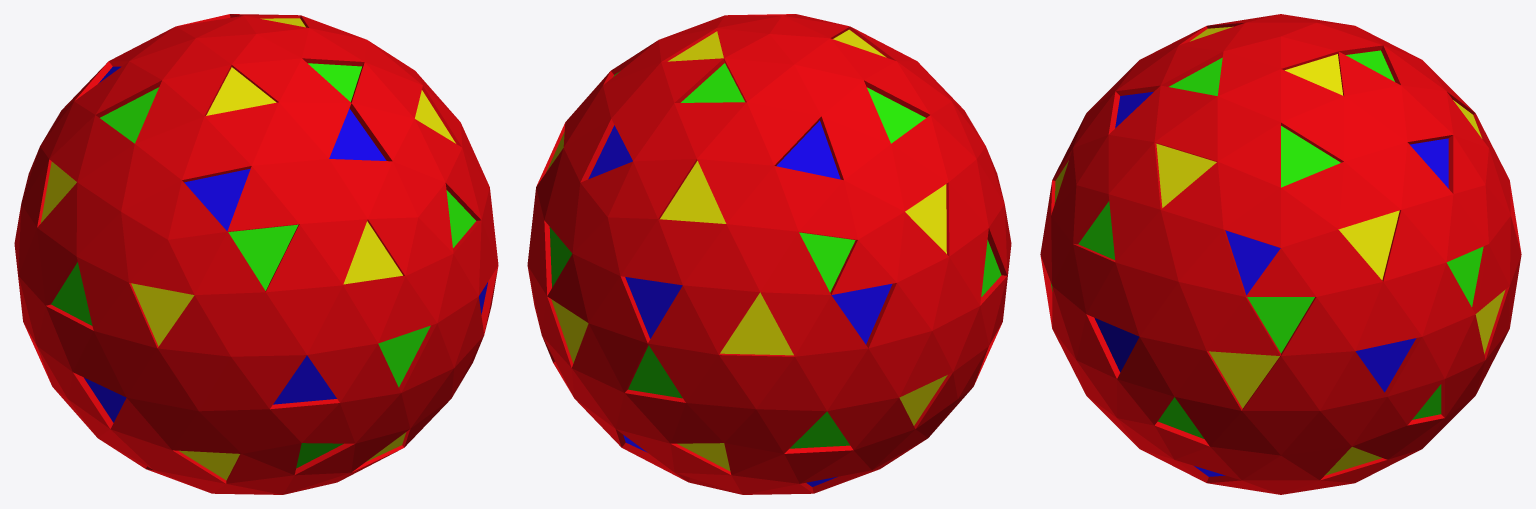
Rendered from Ball_Red.fbx.
3 renders of one model, left to right at view 1: azimuth 30°, elevation 25°; view 2: azimuth 150°, elevation 25°; view 3: azimuth 270°, elevation 25°, orthographic.
Visible parts, largest first — view 1: Ball; view 2: Ball; view 3: Ball.
Part boxes in pixels (x1,y1,x2,y2): Ball: (14, 14, 498, 494); Ball: (527, 14, 1011, 494); Ball: (1040, 14, 1521, 494).
Bounding box in the file's own units: 326 × 326 × 326.
